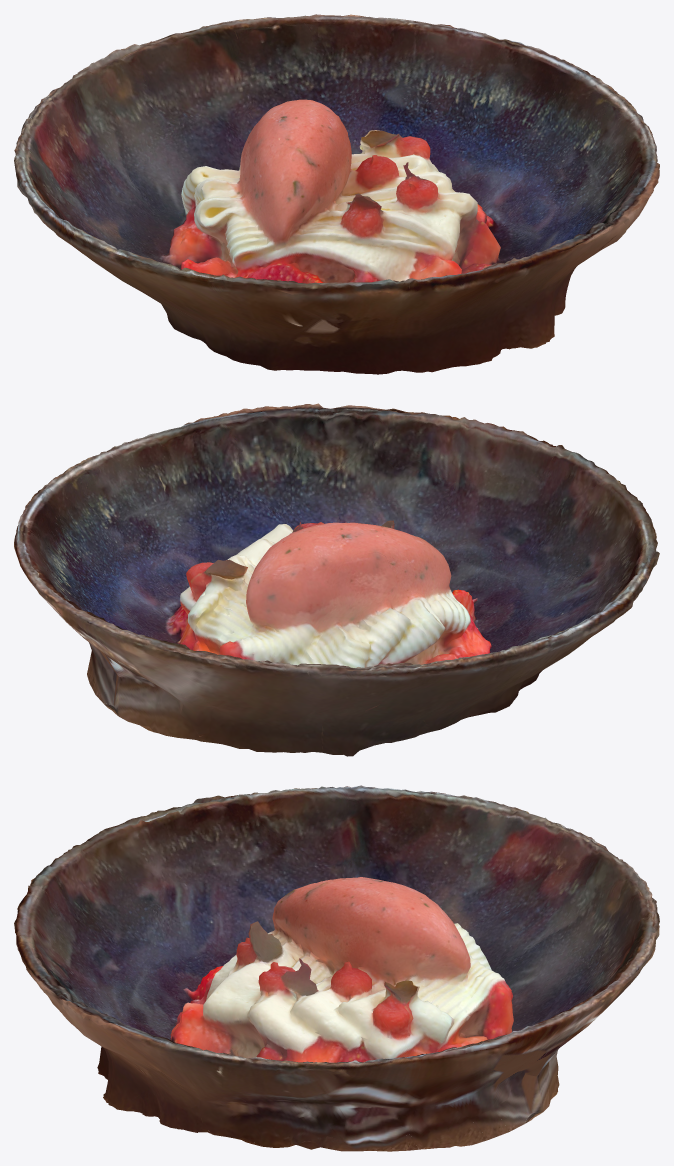
Rendered from fresh_strawberry_cake 1.glb.
3 views of the same model, one above another, from view 1: azimuth 30°, elevation 25°; view 2: azimuth 150°, elevation 25°; view 3: azimuth 270°, elevation 25° (orthographic).
Parts seen in each view (by area): view 1: Object_4; view 2: Object_4; view 3: Object_4.
Part boxes in pixels (box(x1,y1,x2,y2)): Object_4: box(14, 14, 659, 374); Object_4: box(14, 403, 659, 756); Object_4: box(14, 785, 659, 1151).
Size of the model in its own units: 0.1909 by 0.052 by 0.1881.
Materials: 1 (1 with a texture image).
